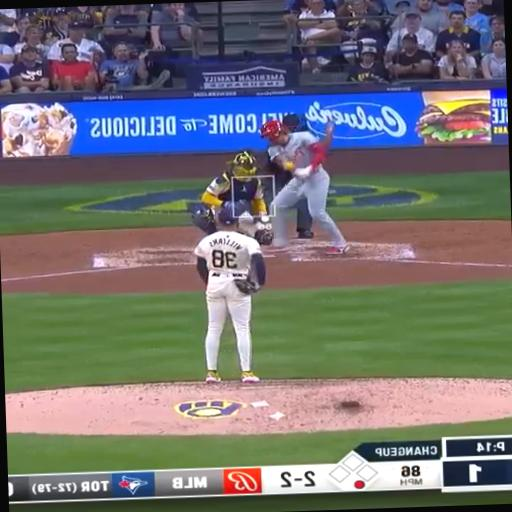bat: (310, 125, 334, 167)
